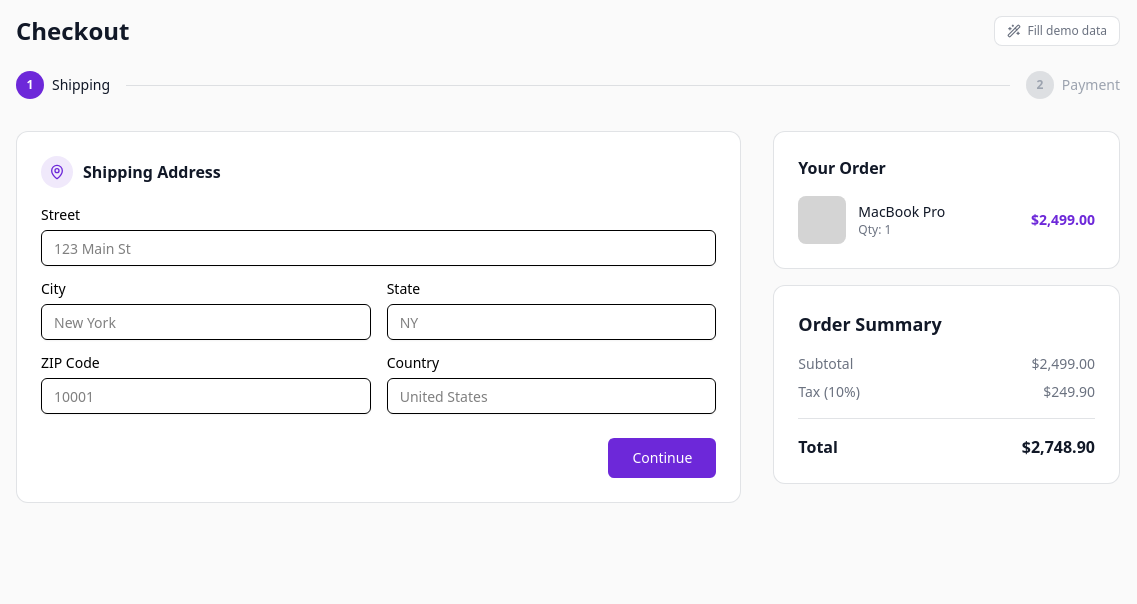
it: CheckoutPage — stepper navigation › blocks Continue and shows validation errors when shipping is empty
Step 1. Click the button "Continue" → click(662, 458), box [608,438,716,478]
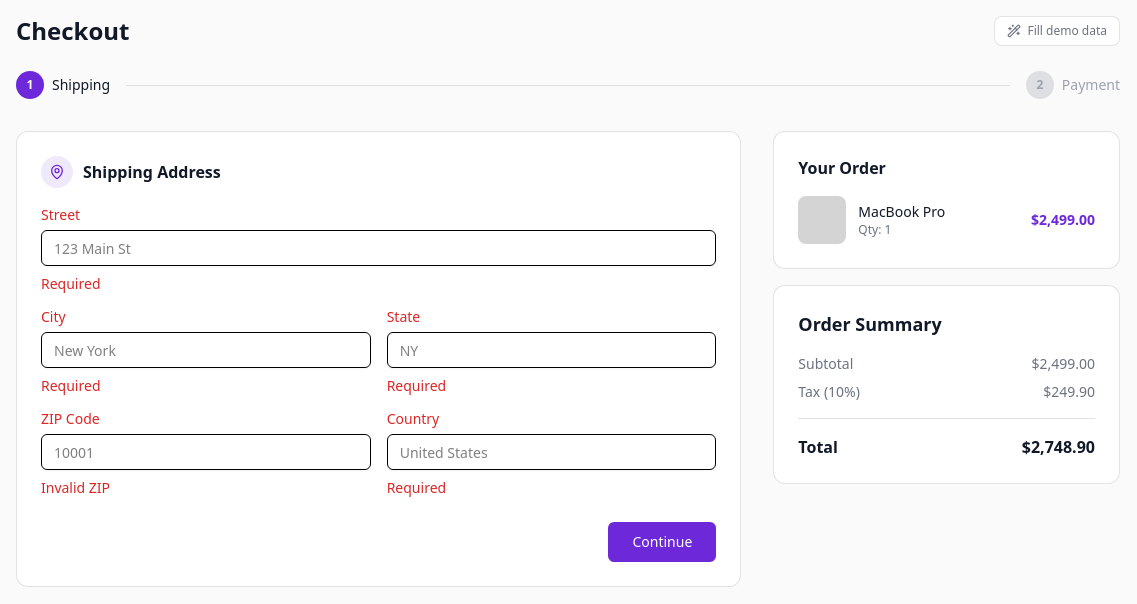
Expected: the text "Required" below "Street" is shown, [41,274,100,293]
